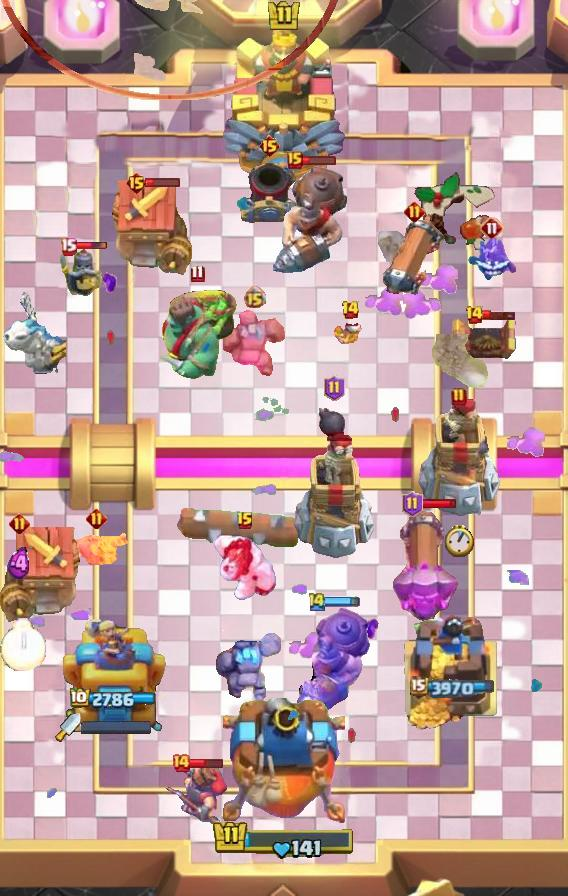bar: (61, 615, 166, 731)
battle-healer: (383, 214, 445, 300)
clock: (212, 819, 356, 861)
electro-spirit: (7, 547, 32, 581)
elixir: (0, 617, 46, 671), (446, 524, 474, 557)
elixir-golem-big: (165, 762, 227, 828)
emote: (422, 498, 459, 510), (145, 176, 181, 188), (481, 309, 517, 321), (188, 757, 224, 769), (325, 596, 360, 608), (301, 154, 337, 165), (74, 241, 108, 251)
fisherman: (427, 334, 489, 394), (378, 231, 420, 277)
furnace: (391, 507, 459, 627)
goblin-brawler: (448, 315, 520, 363)
goblin-hut: (62, 532, 130, 567)
heal-spirit: (334, 317, 366, 349)
king-tower: (220, 21, 348, 181), (223, 698, 345, 826)
king-tower-bar: (81, 720, 153, 734)
lava-hound: (157, 283, 237, 381)
mini-pekka: (0, 292, 66, 376)
minion: (177, 507, 301, 547)
musketeer: (238, 159, 300, 227)
princess: (58, 243, 104, 299)
queen-tower: (403, 613, 506, 731)
rage: (212, 534, 278, 602)
royal-ghost: (0, 0, 342, 100)
selected: (70, 688, 158, 710), (411, 676, 498, 698)
sparky: (106, 179, 192, 277), (0, 526, 86, 624)
spear-goblin: (466, 237, 518, 281)
text: (480, 216, 504, 240), (258, 134, 281, 158), (125, 171, 148, 195), (323, 375, 344, 401), (401, 491, 422, 517), (242, 286, 265, 309), (403, 201, 424, 223), (85, 507, 106, 529), (9, 513, 30, 534), (307, 591, 327, 613), (464, 305, 484, 325), (171, 753, 191, 773), (340, 300, 359, 320), (236, 511, 254, 531), (59, 237, 76, 256), (451, 387, 467, 407), (287, 151, 303, 169), (191, 265, 206, 284)
valkyrie-evolution: (215, 630, 281, 702), (223, 304, 285, 380)
wizard: (291, 606, 373, 720), (268, 164, 348, 274)
zappy: (290, 402, 377, 560), (417, 396, 502, 520)
